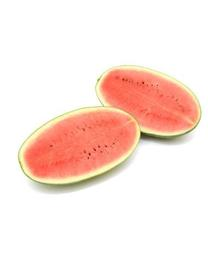watermelon: (20, 63, 203, 186)
